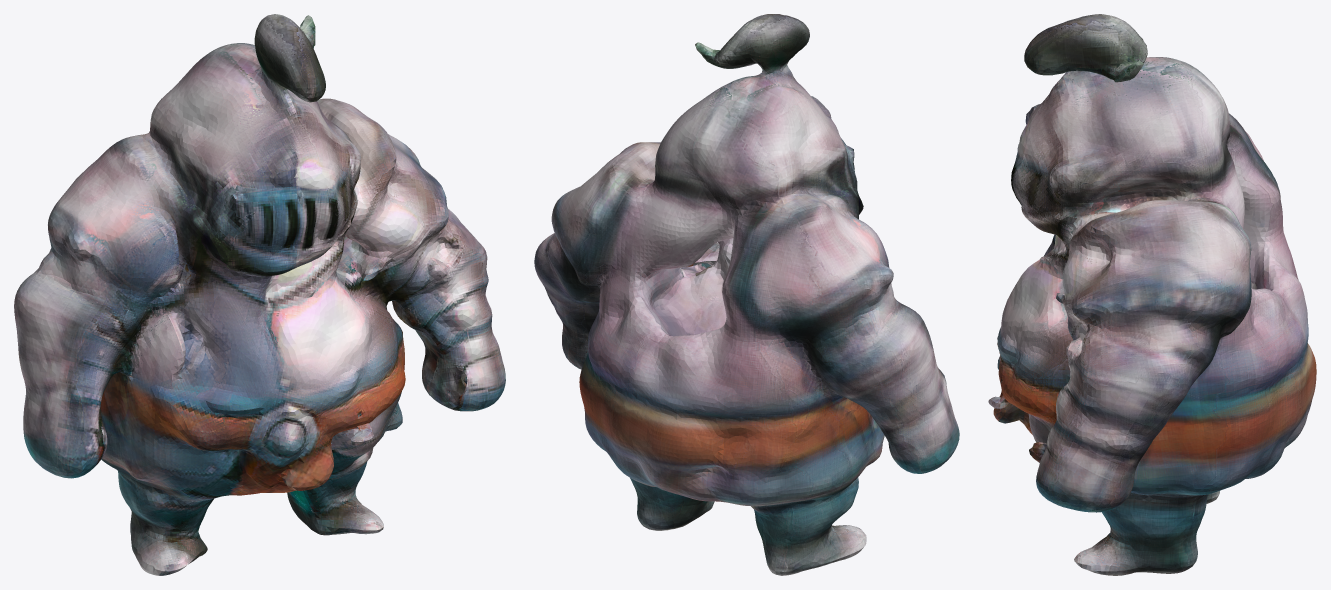
Rendered from enemy1.glb.
3 views of the same model, side by side, from view 1: azimuth 30°, elevation 25°; view 2: azimuth 150°, elevation 25°; view 3: azimuth 270°, elevation 25° (orthographic). The views are drawn at different scales.
Bounding box in the file's own units: 1.15 × 1.37 × 0.7753.
1 material, 1 textured.
